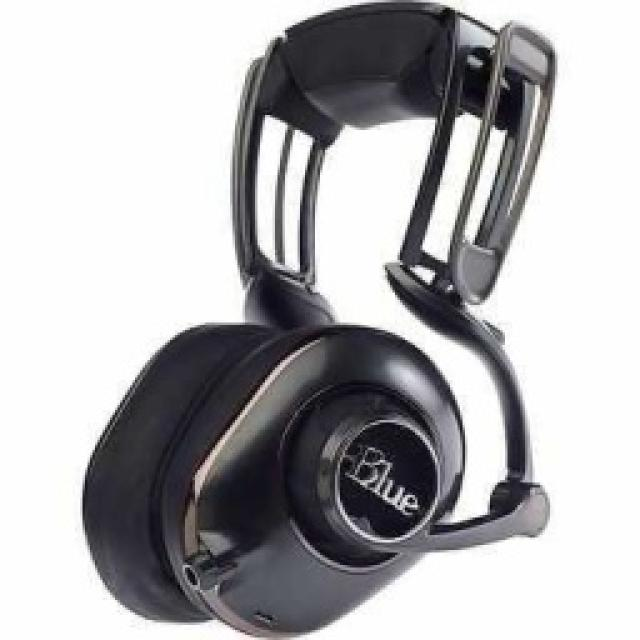headphones: (78, 0, 558, 638)
